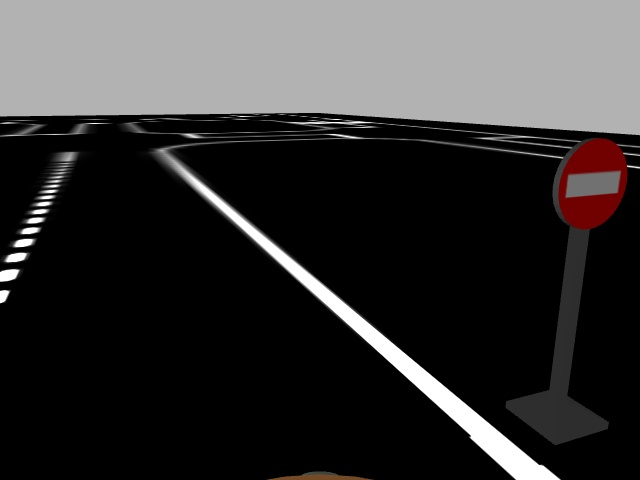prohibited: (556, 136, 629, 230)
